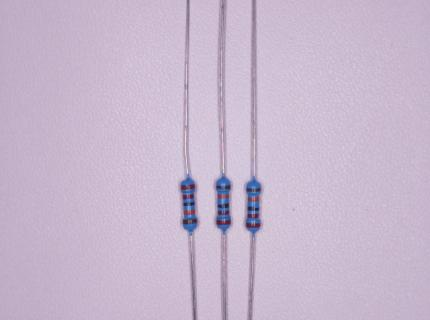Black band: (247, 206, 259, 211), (183, 202, 195, 207), (218, 203, 229, 208)
Brown band: (216, 184, 231, 190), (183, 219, 197, 225), (246, 187, 261, 192)
Orange band: (183, 209, 196, 215), (217, 194, 229, 199), (248, 197, 259, 201)
Red band: (180, 184, 195, 190), (216, 220, 231, 225), (246, 223, 260, 228), (183, 194, 194, 200), (218, 210, 230, 215), (247, 214, 260, 218)
